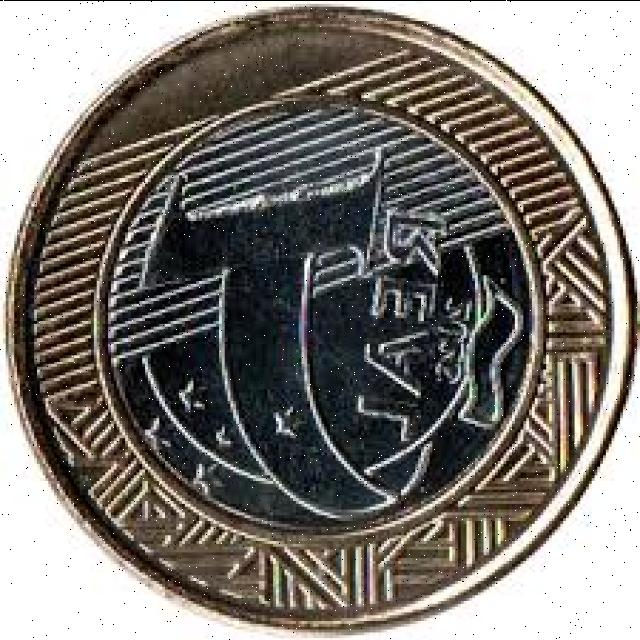1 real: (7, 9, 625, 624)
